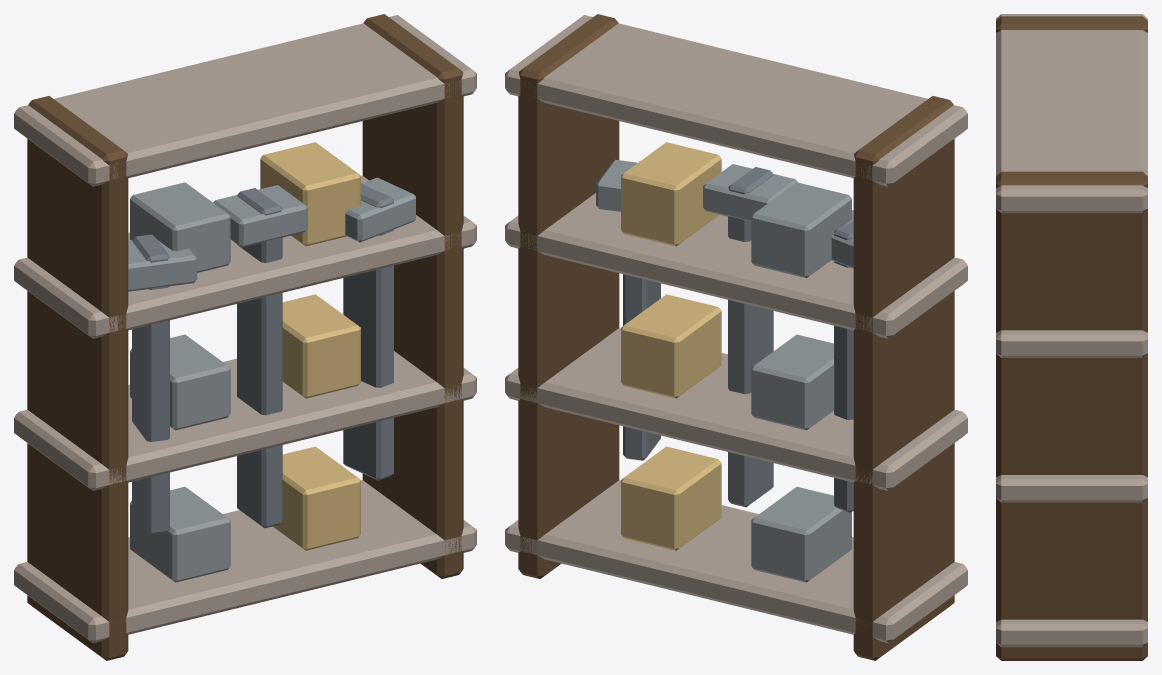
The model's file is town_tool_rack.glb.
The picture shows the model from 3 angles, left to right: view 1: azimuth 30°, elevation 25°; view 2: azimuth 150°, elevation 25°; view 3: azimuth 270°, elevation 25°; orthographic projection. The views are drawn at different scales.
Size of the model in its own units: 1.46 by 1.82 by 0.52.
